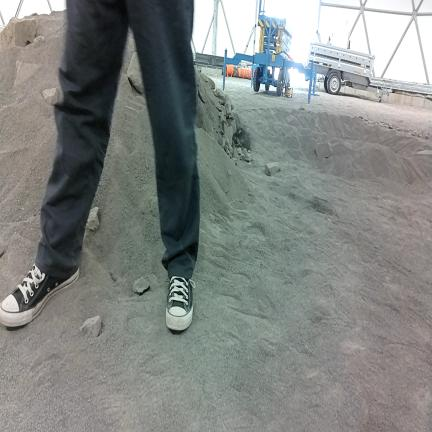Rock: (0, 18, 37, 49), (127, 53, 144, 94), (80, 316, 101, 337), (86, 207, 99, 231), (42, 88, 59, 106), (133, 277, 149, 294), (315, 143, 333, 158), (265, 162, 280, 176)
